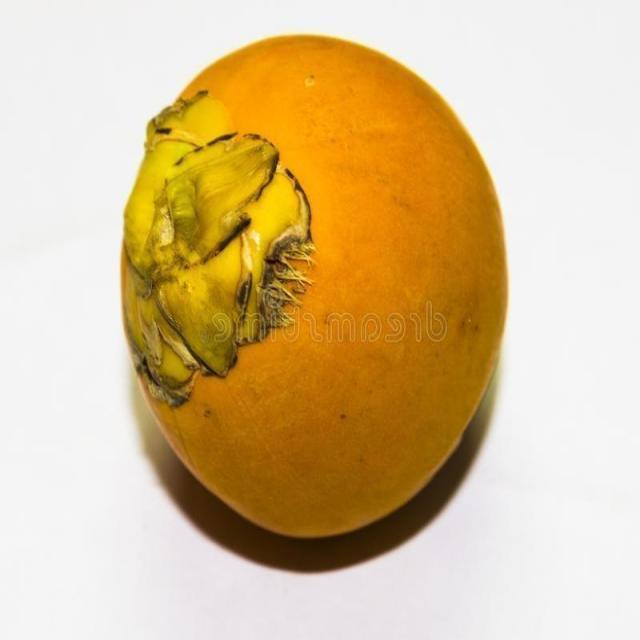good: (120, 36, 509, 541)
